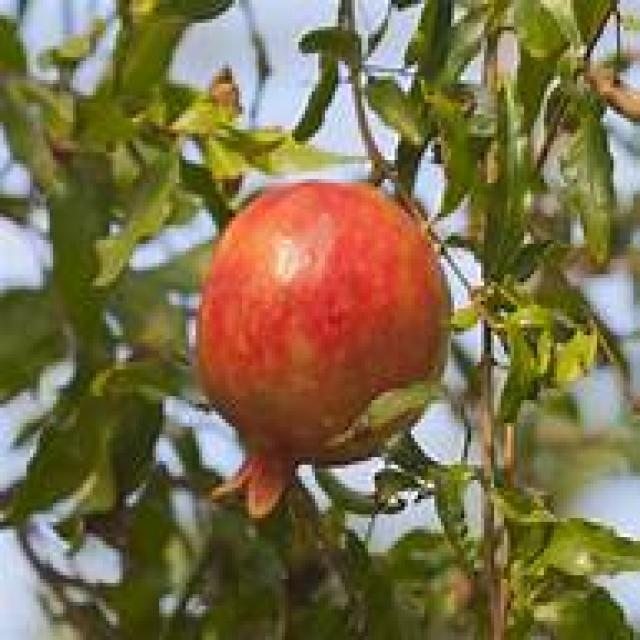Pomegranate: (193, 178, 456, 526)
